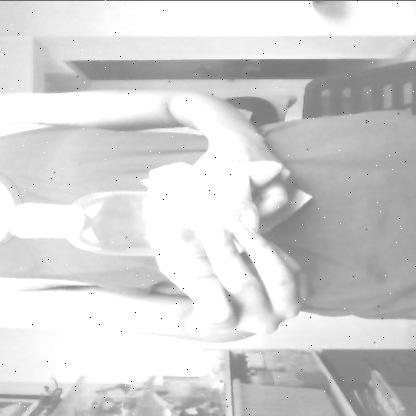Plastic Bottle: (9, 185, 268, 258)
